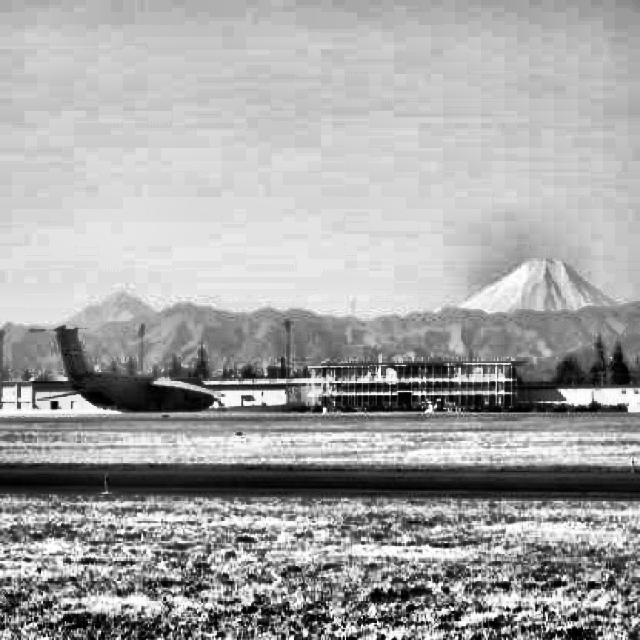C5: (28, 323, 226, 412)
